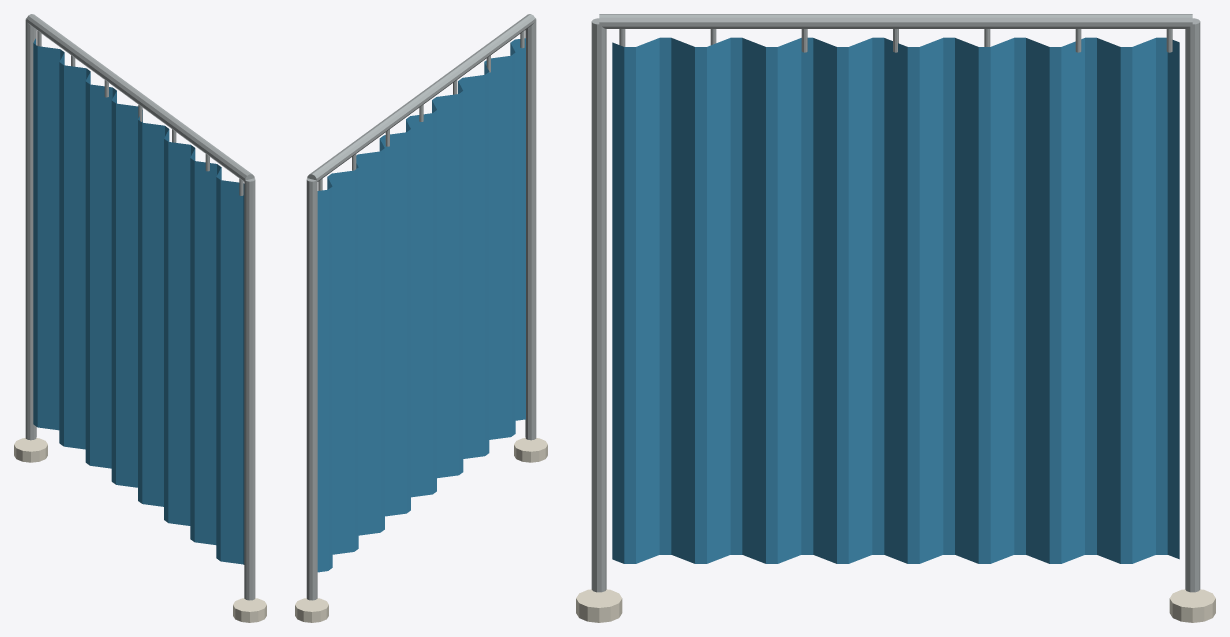
The model's file is PrivacyCurtain_advanced.glb.
3 views of the same model, side by side, from view 1: azimuth 30°, elevation 25°; view 2: azimuth 150°, elevation 25°; view 3: azimuth 270°, elevation 25° (orthographic). The views are drawn at different scales.
Parts seen in each view (by area): view 1: Static_blue, Static_steel, Static_ivory; view 2: Static_blue, Static_steel, Static_ivory; view 3: Static_blue, Static_steel, Static_ivory.
Boxes of the visible parts, x1,y1,x2,y2 form: Static_blue: (33, 38, 244, 564); Static_steel: (25, 14, 255, 600); Static_ivory: (14, 438, 266, 622); Static_blue: (317, 38, 525, 572); Static_steel: (306, 14, 536, 600); Static_ivory: (295, 438, 547, 622); Static_blue: (612, 37, 1179, 563); Static_steel: (591, 14, 1200, 592); Static_ivory: (576, 589, 1215, 622).
Bounding box in the file's own units: 0.14 × 2 × 1.94.
